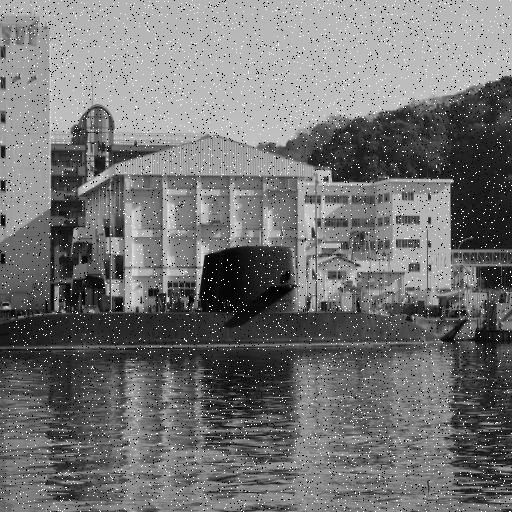submarine: (1, 242, 445, 345)
